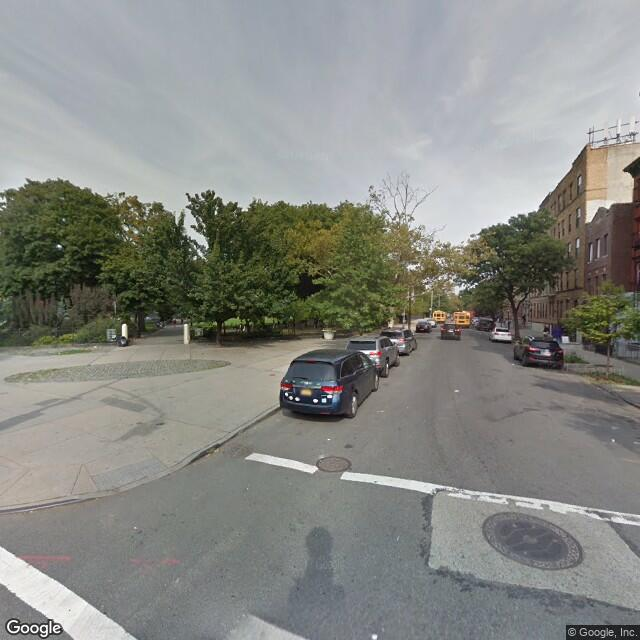litter: (448, 384, 482, 403), (361, 628, 383, 640), (610, 436, 627, 448)
